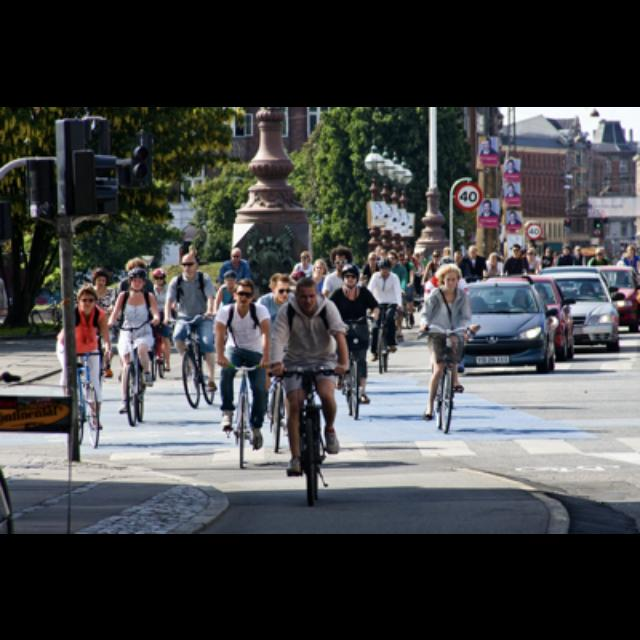With Helmet: (123, 261, 153, 295), (339, 260, 363, 290), (372, 253, 398, 280)
Without Helmet: (290, 272, 330, 314), (432, 258, 468, 294), (228, 272, 258, 310), (74, 280, 102, 316), (174, 247, 202, 277), (293, 244, 315, 268), (506, 237, 528, 259), (228, 242, 248, 264)
